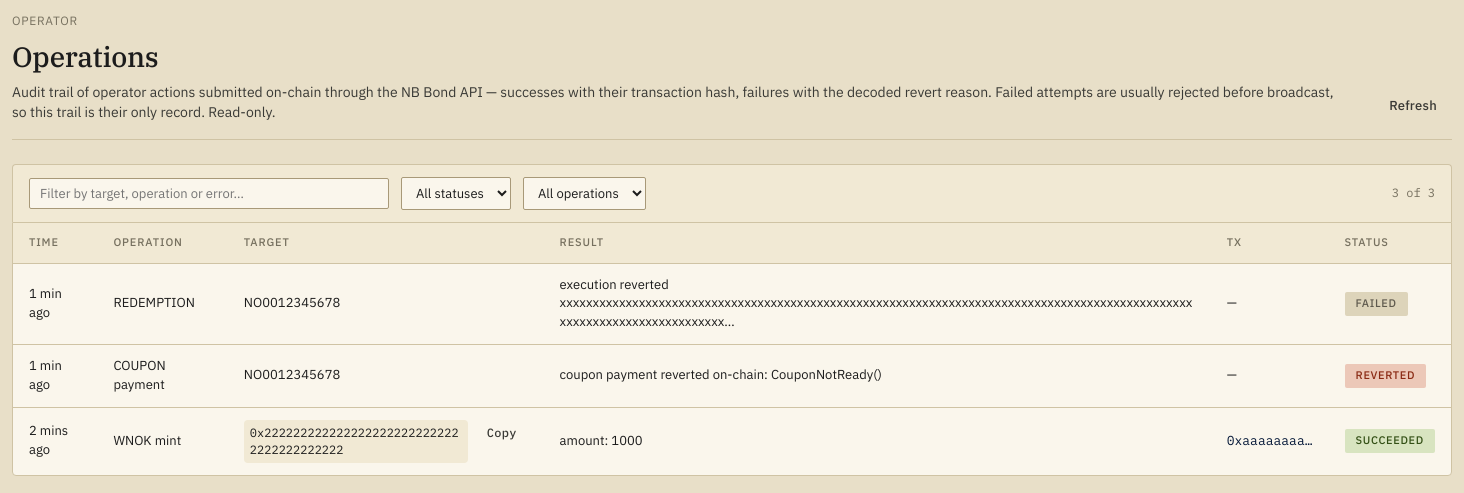
Test: OperationsPage › filters by status, category and free text
Check: the text "SUCCEEDED" is shown, box x1=1344 y1=429 x2=1435 y2=453
// Status filter: only the REVERTED coupon payment remains.
Select "Reverted" in the 1st dropdown: coordinates (456, 193) x1=401 y1=177 x2=511 y2=210
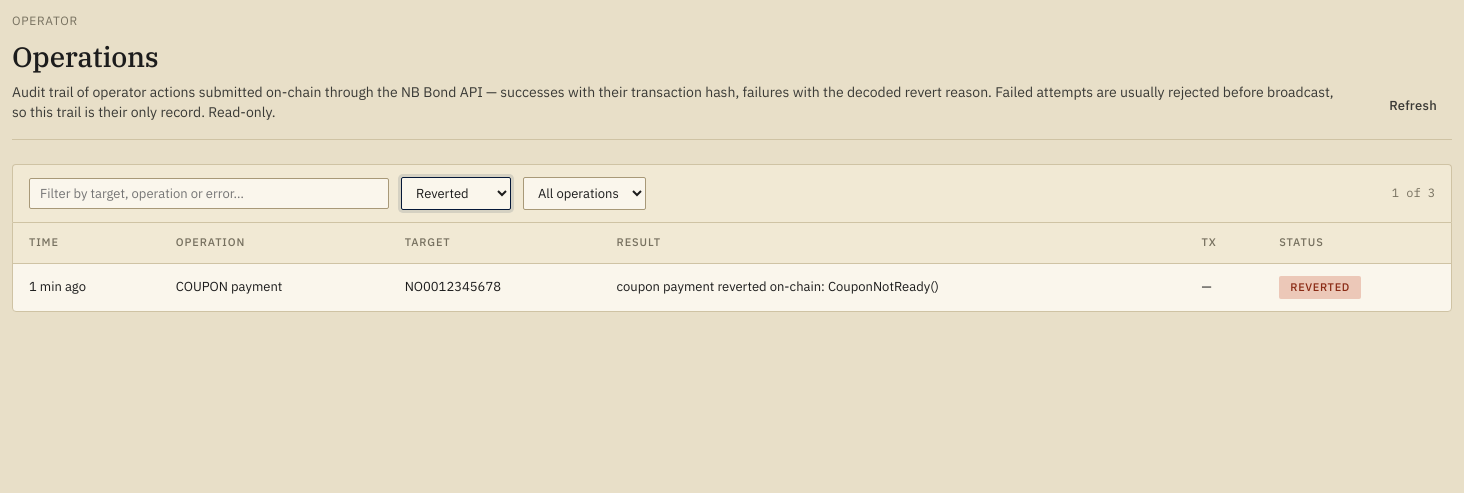
Check: the text "REVERTED" is shown, box x1=1279 y1=276 x2=1361 y2=299
Check: the text "SUCCEEDED" is gone
Check: the text "1 of 3" is shown, box x1=1392 y1=184 x2=1435 y2=202
Select "Central bank" in the 2nd dropdown: coordinates (584, 193) x1=523 y1=177 x2=646 y2=210
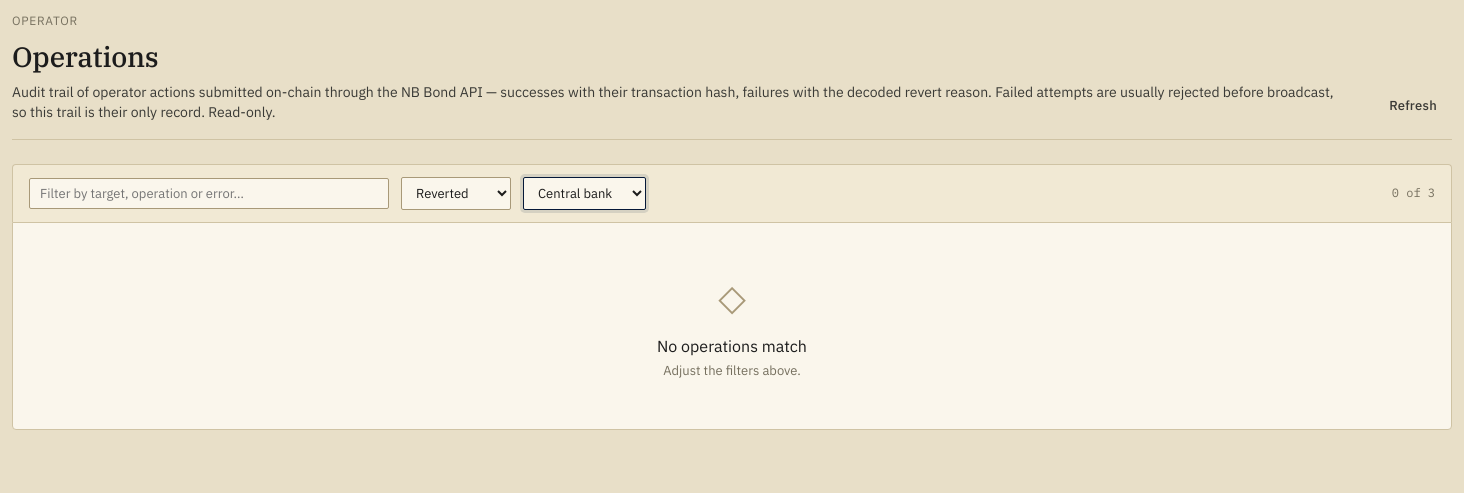
Check: the text "No operations match" is shown, box x1=657 y1=336 x2=807 y2=356
Select "All operations" in the 2nd dropdown: coordinates (584, 193) x1=523 y1=177 x2=646 y2=210
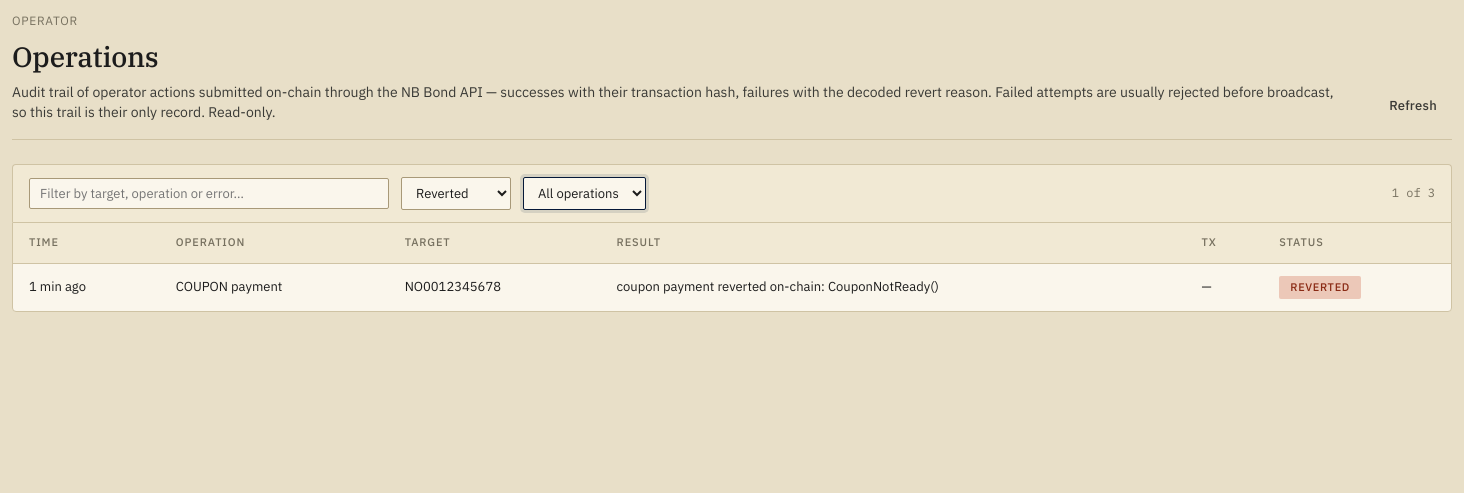
Select "All statuses" in the 1st dropdown: coordinates (456, 193) x1=401 y1=177 x2=511 y2=210
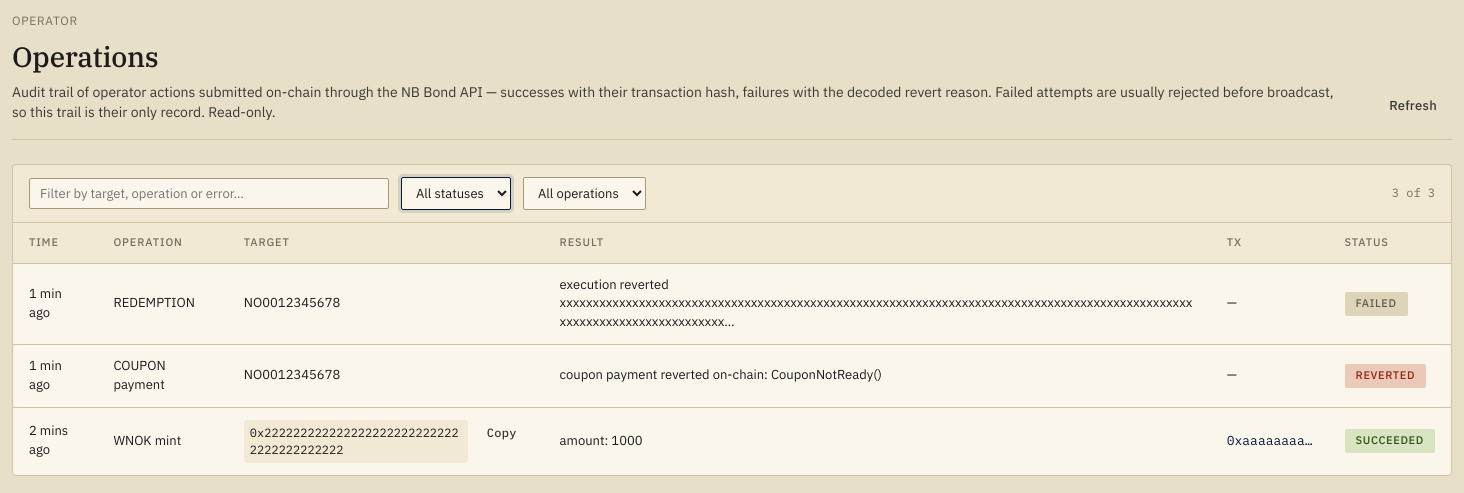
// Free text matches the decoded error.
In the field with placeholder "Filter by target, operation or error…": coordinates (209, 193) x1=29 y1=178 x2=389 y2=209, type "CouponNotReady"
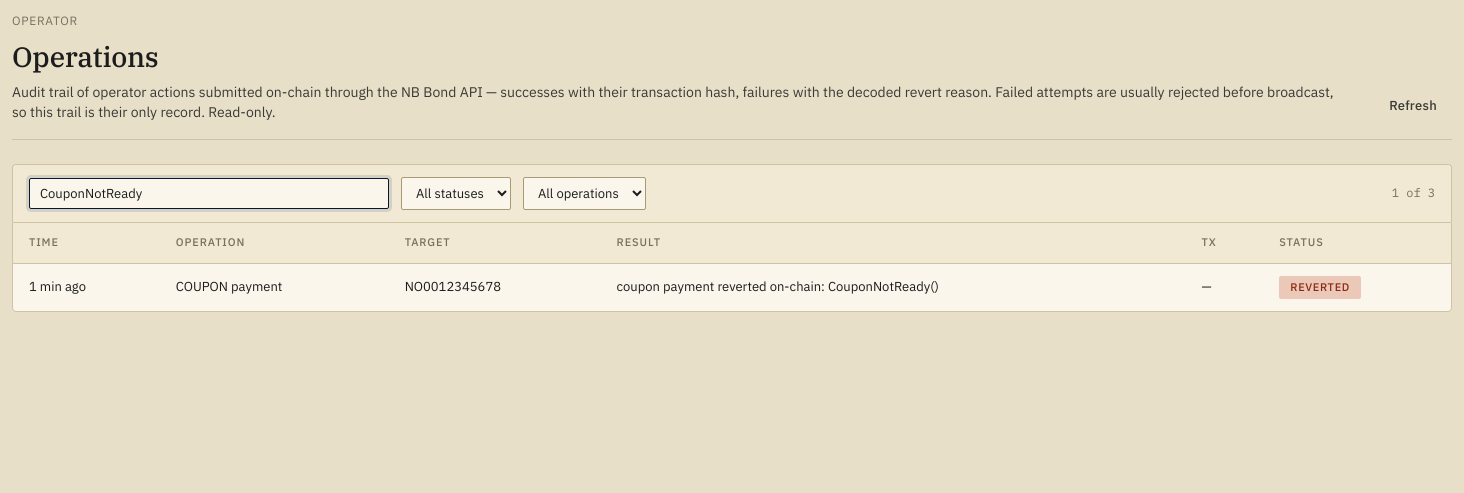
Check: the text "COUPON payment" is shown, box x1=160 y1=263 x2=389 y2=311
Check: the text "1 of 3" is shown, box x1=1392 y1=184 x2=1435 y2=202
Check: the text "WNOK mint" is gone
